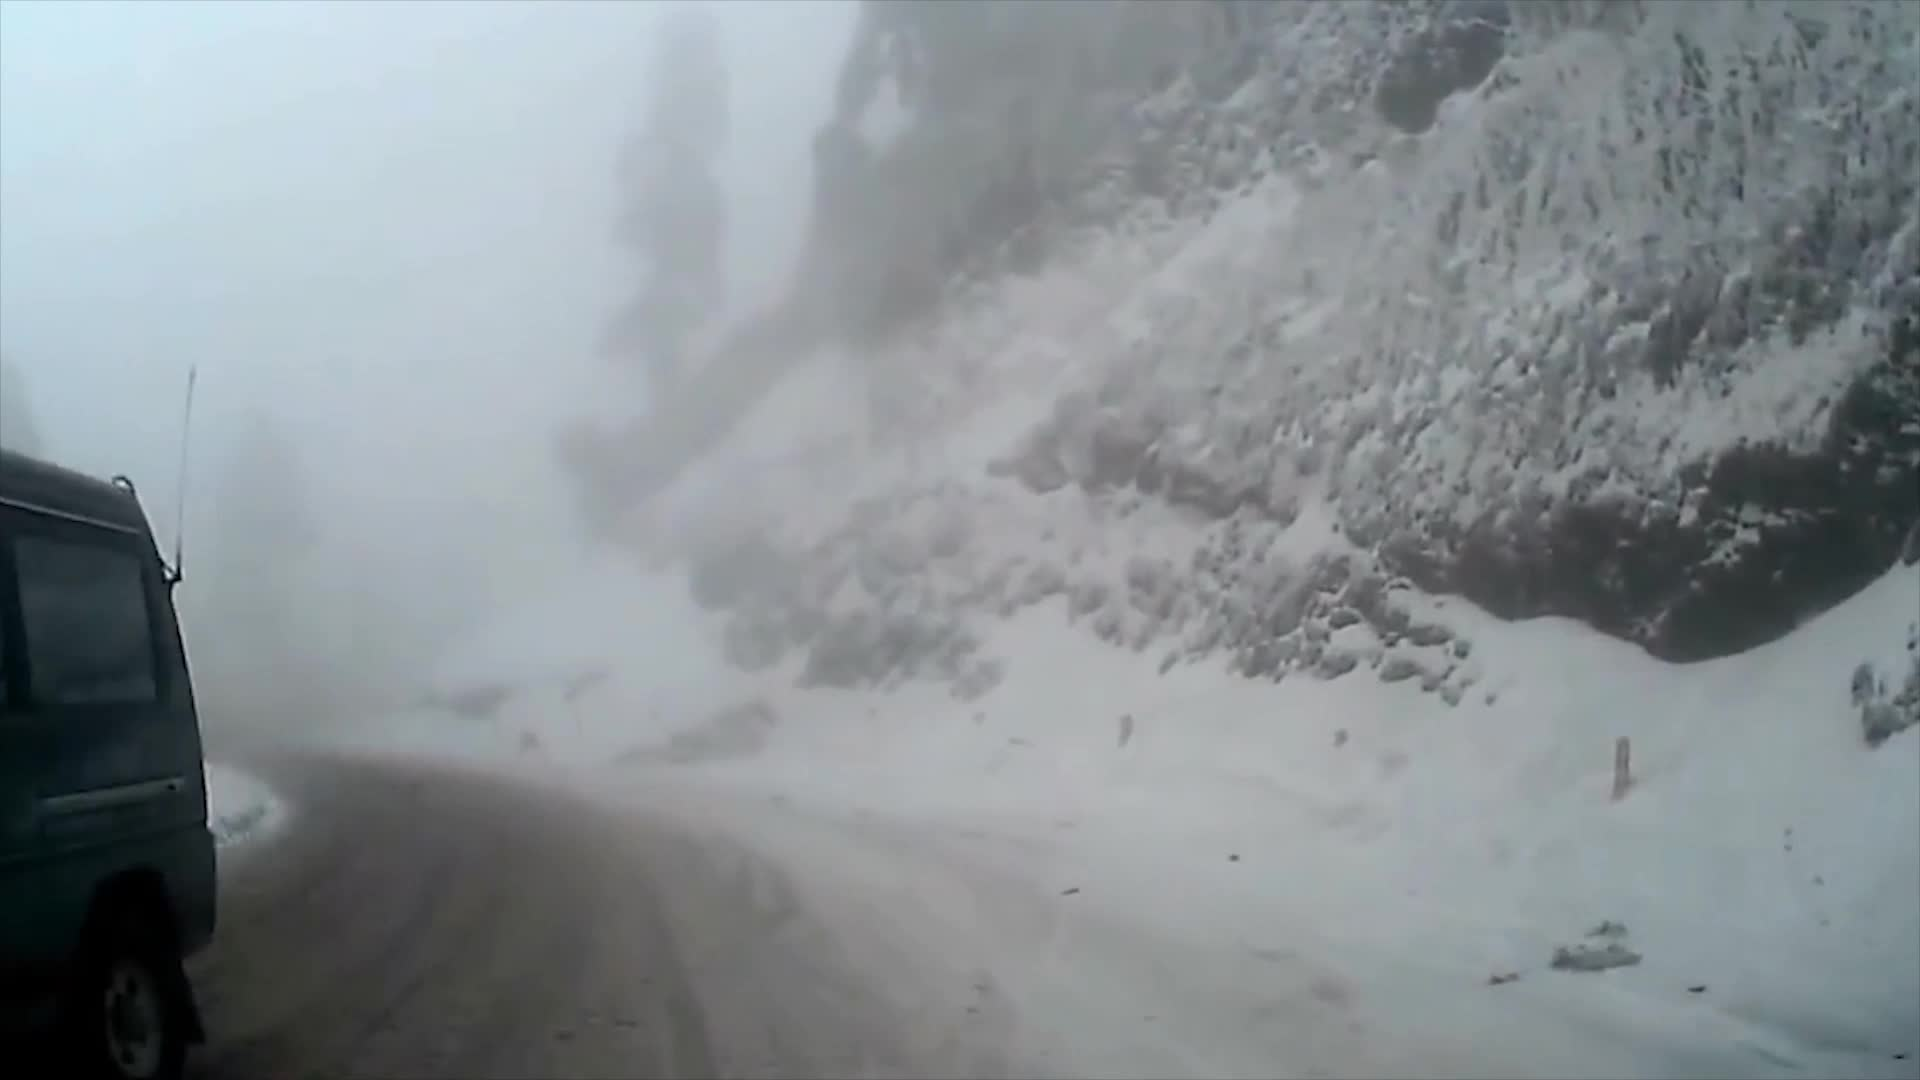vehicle: (0, 448, 219, 1080)
